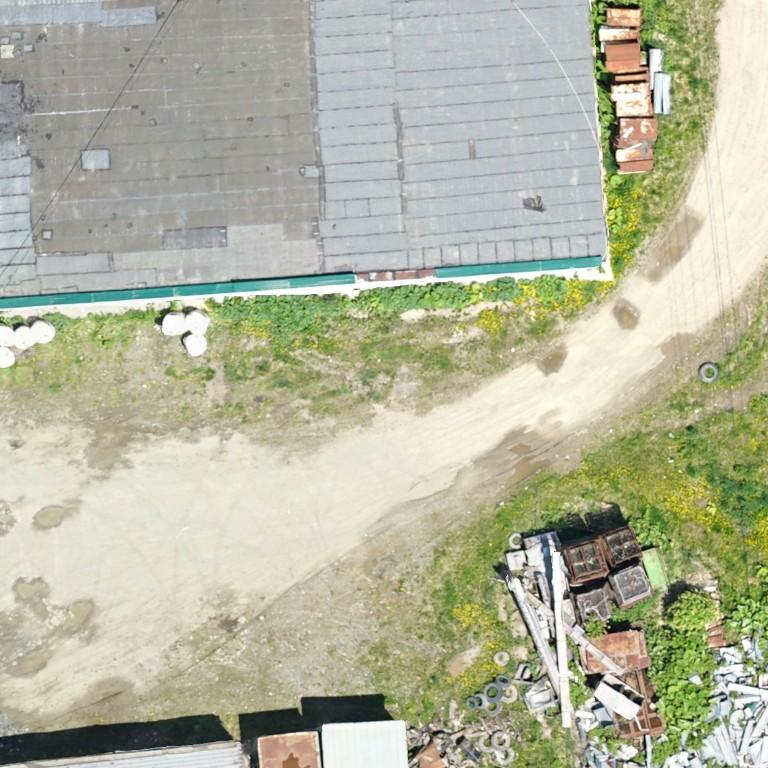hogweed: (214, 274, 568, 335), (706, 475, 767, 525)
